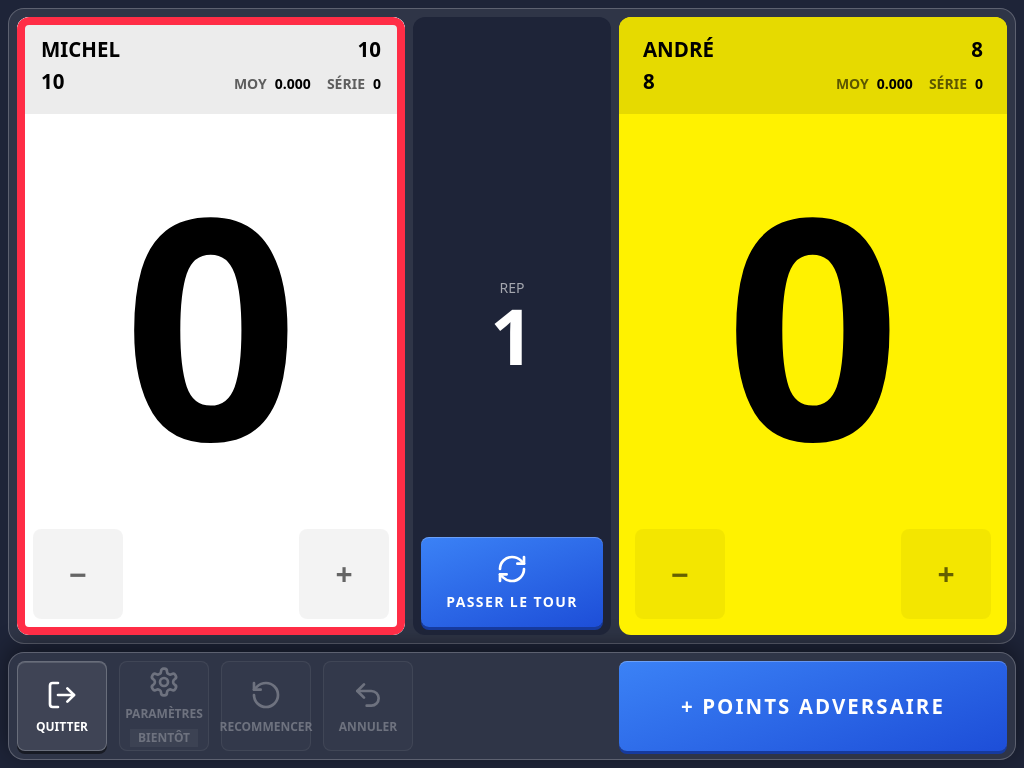
Test: GameView — fin de partie › finishes from FIN DE PARTIE with the white player as winner
Press the mouse on the button with test id "add-points-button" at (813, 706), box 619,661 -> 1007,751
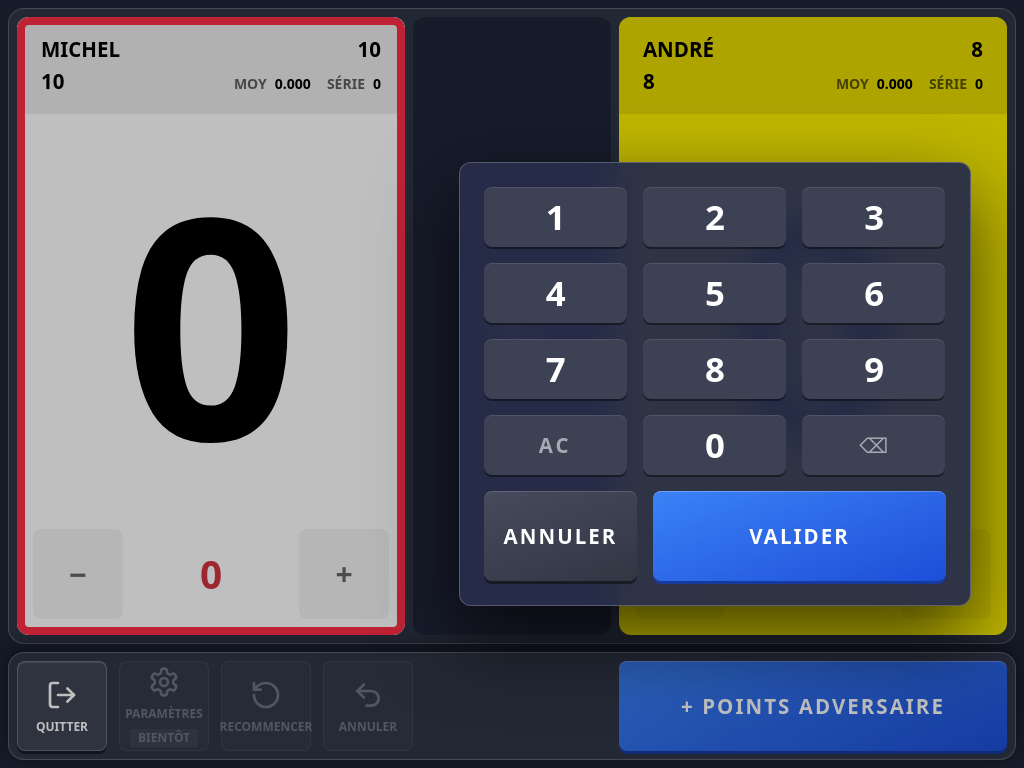
Press the mouse on the button with test id "digit-1" at (555, 217), box 484,187 -> 627,247
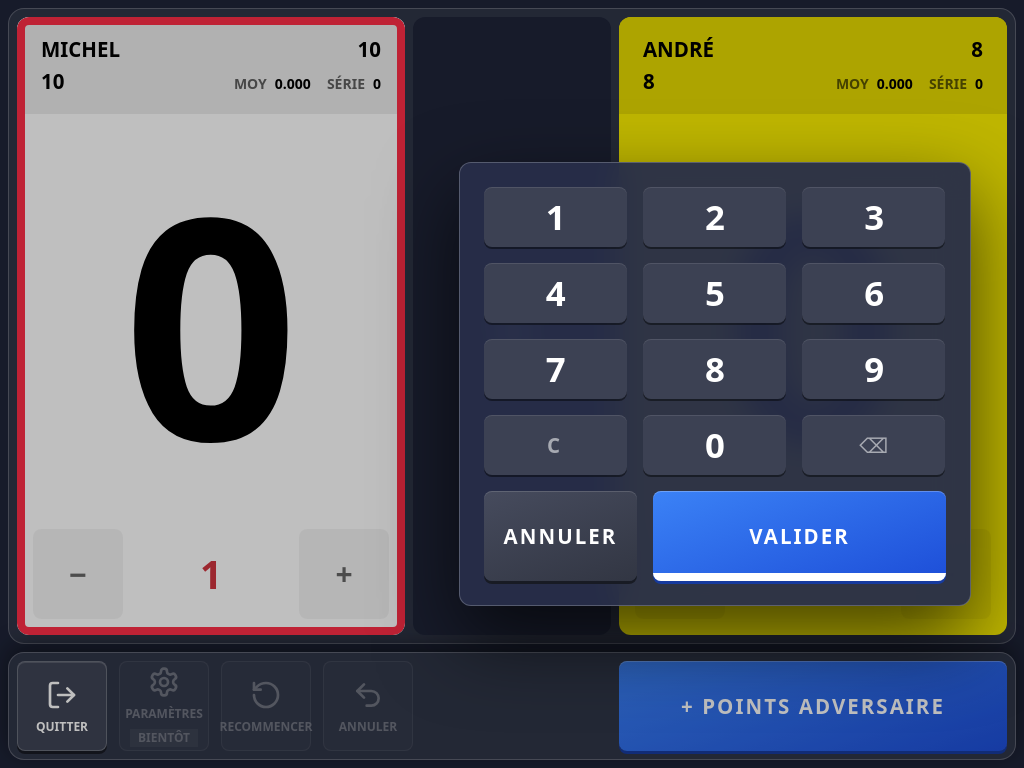
Press the mouse on the button "0" at (714, 445), box 643,415 -> 786,475
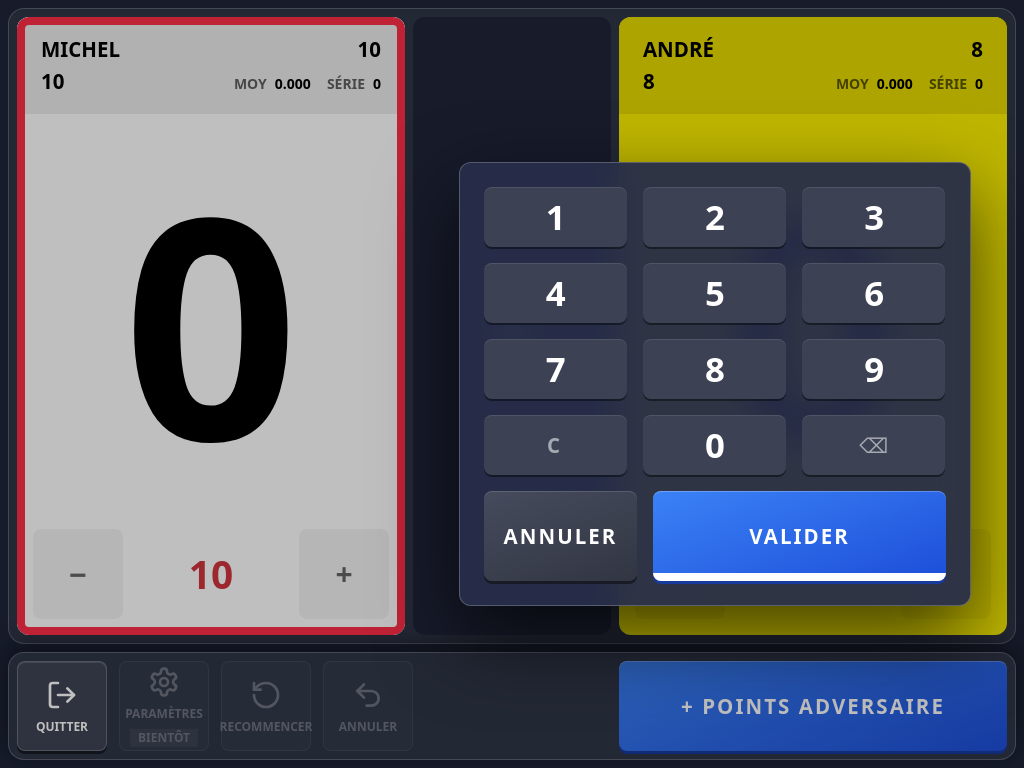
Press the mouse on the button with test id "entry-confirm-button" at (800, 536), box 654,491 -> 946,581
Wait 300 ms
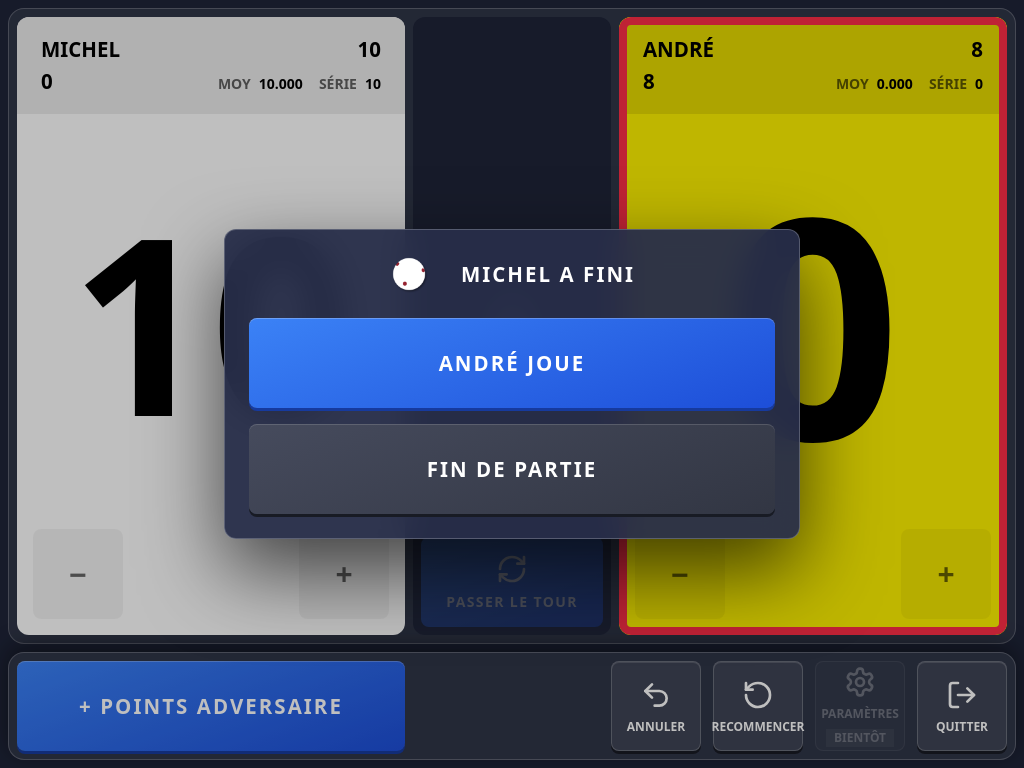
Press the mouse on the button with test id "prompt-secondary" at (512, 469), box 249,424 -> 775,514
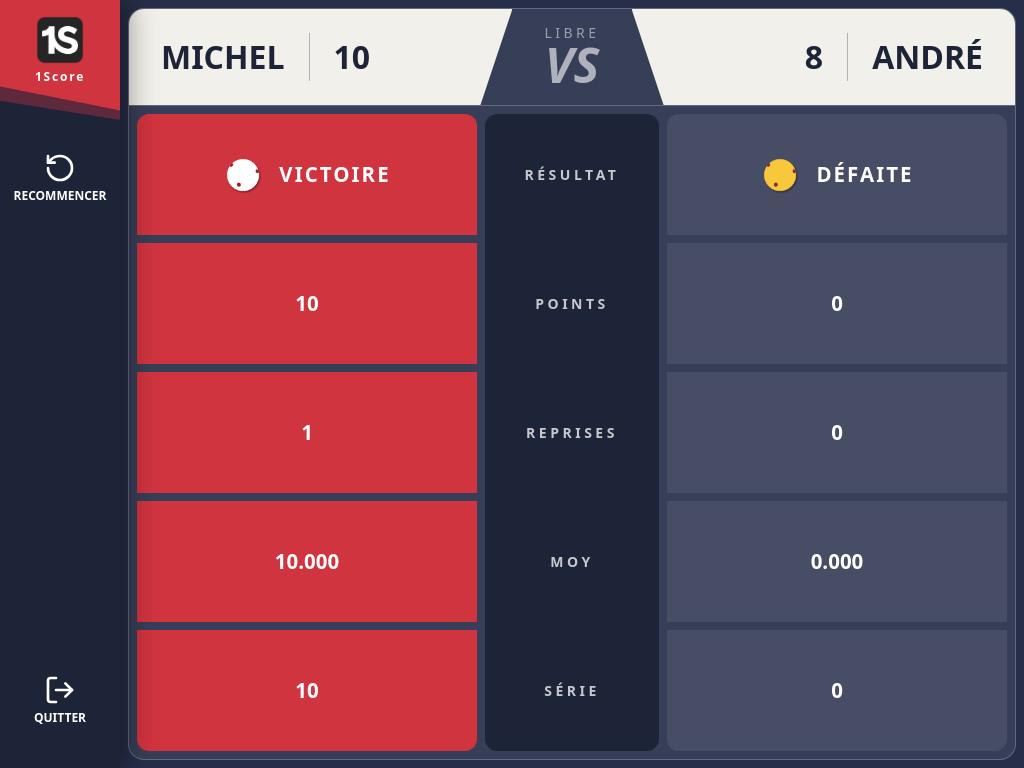
Now the element with test id "game-summary" is shown
